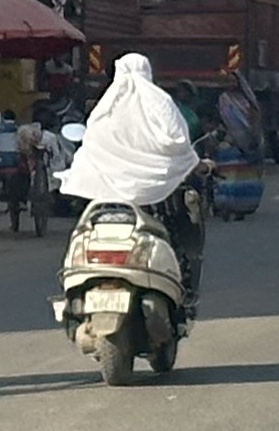BikeWithRider: (44, 45, 248, 395)
NoHelmet: (109, 50, 155, 90)
